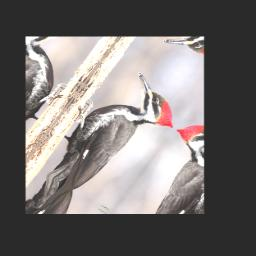Woodpecker: (36, 57, 192, 213)
